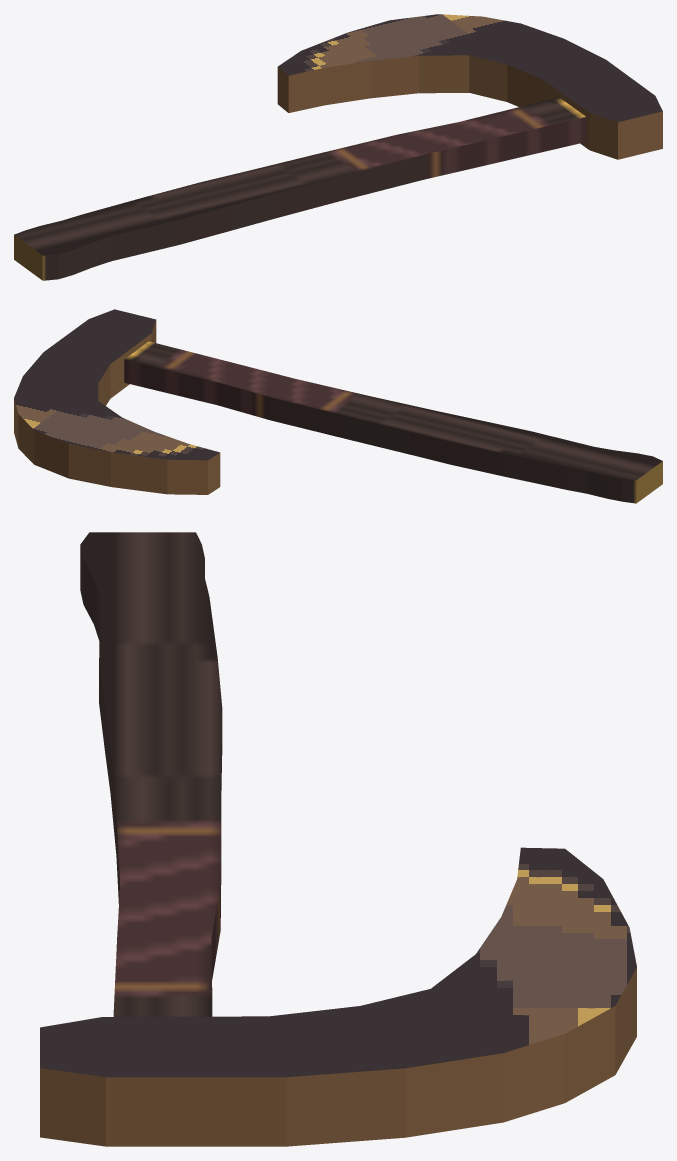
File: hoe_finished_bench.obj
The picture shows the model from 3 angles, top to bottom: view 1: azimuth 30°, elevation 25°; view 2: azimuth 150°, elevation 25°; view 3: azimuth 270°, elevation 25°; orthographic projection. The views are drawn at different scales.
Visible parts, largest first — view 1: geometry; view 2: geometry; view 3: geometry.
Boxes of the visible parts, <box> form: geometry: <box>14,14,662,280</box>; geometry: <box>14,309,662,503</box>; geometry: <box>40,532,636,1146</box>.
Size of the model in its own units: 0.75 by 0.0436 by 0.3402.
